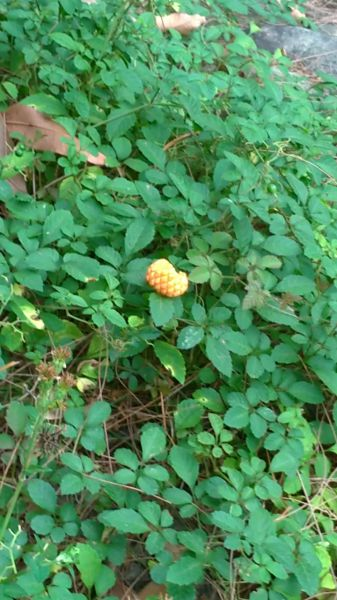eggs: (142, 255, 191, 301)
